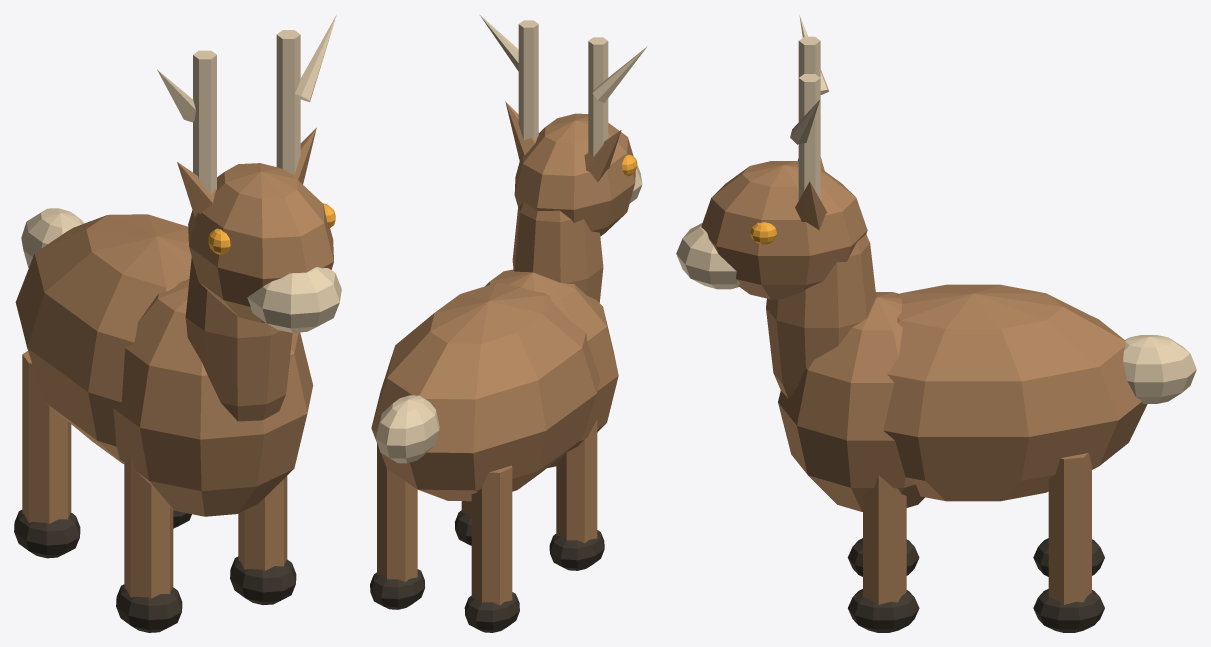
Rendered from atlas_deer.glb.
3 renders of one model, left to right at view 1: azimuth 30°, elevation 25°; view 2: azimuth 150°, elevation 25°; view 3: azimuth 270°, elevation 25°, orthographic. The views are drawn at different scales.
Visible parts, largest first — view 1: Deer_Chest, Deer_Body, Deer_Head, Deer_Neck, Deer_Leg.001, Deer_Leg, Deer_Muzzle, Deer_Leg.002, Deer_Antler.001, Deer_Antler, Deer_Hoof.002, Deer_Hoof (+7 smaller); view 2: Deer_Body, Deer_Head, Deer_Neck, Deer_Leg.001, Deer_Chest, Deer_Leg.003, Deer_Leg, Deer_Tail, Deer_Antler.001, Deer_Antler, Deer_Hoof, Deer_Hoof.001 (+6 smaller); view 3: Deer_Body, Deer_Chest, Deer_Head, Deer_Neck, Deer_Leg.003, Deer_Leg.002, Deer_Tail, Deer_Muzzle, Deer_Antler.001, Deer_Hoof.003, Deer_Hoof.002, Deer_Ear.001 (+3 smaller).
Part boxes in pixels (left/top/right/bottom): Deer_Chest: left=113, top=279, right=313, bottom=516; Deer_Body: left=15, top=214, right=191, bottom=463; Deer_Head: left=188, top=163, right=333, bottom=322; Deer_Neck: left=185, top=257, right=292, bottom=421; Deer_Leg.001: left=22, top=351, right=71, bottom=523; Deer_Leg: left=124, top=455, right=173, bottom=598; Deer_Muzzle: left=247, top=267, right=341, bottom=332; Deer_Leg.002: left=238, top=476, right=287, bottom=570; Deer_Antler.001: left=276, top=30, right=300, bottom=174; Deer_Antler: left=193, top=50, right=216, bottom=194; Deer_Hoof.002: left=230, top=556, right=296, bottom=604; Deer_Hoof: left=116, top=584, right=182, bottom=632; Deer_Body: left=371, top=283, right=600, bottom=501; Deer_Head: left=514, top=113, right=635, bottom=236; Deer_Neck: left=512, top=202, right=603, bottom=302; Deer_Leg.001: left=471, top=465, right=512, bottom=605; Deer_Chest: left=485, top=269, right=618, bottom=467; Deer_Leg.003: left=377, top=443, right=417, bottom=581; Deer_Leg: left=556, top=419, right=597, bottom=543; Deer_Tail: left=376, top=395, right=439, bottom=463; Deer_Antler.001: left=518, top=20, right=538, bottom=140; Deer_Antler: left=588, top=37, right=608, bottom=157; Deer_Hoof: left=549, top=530, right=604, bottom=570; Deer_Hoof.001: left=464, top=592, right=519, bottom=632; Deer_Body: left=883, top=284, right=1147, bottom=501; Deer_Chest: left=778, top=292, right=924, bottom=511; Deer_Head: left=701, top=161, right=867, bottom=299; Deer_Neck: left=766, top=234, right=876, bottom=398; Deer_Leg.003: left=1048, top=453, right=1091, bottom=604; Deer_Leg.002: left=863, top=475, right=906, bottom=604; Deer_Tail: left=1123, top=335, right=1196, bottom=403; Deer_Muzzle: left=676, top=223, right=740, bottom=289; Deer_Antler.001: left=798, top=74, right=820, bottom=200; Deer_Hoof.003: left=1033, top=589, right=1104, bottom=632; Deer_Hoof.002: left=848, top=589, right=919, bottom=632; Deer_Ear.001: left=795, top=181, right=827, bottom=230.
Bounding box in the file's own units: 1.05 × 3.03 × 2.61.
